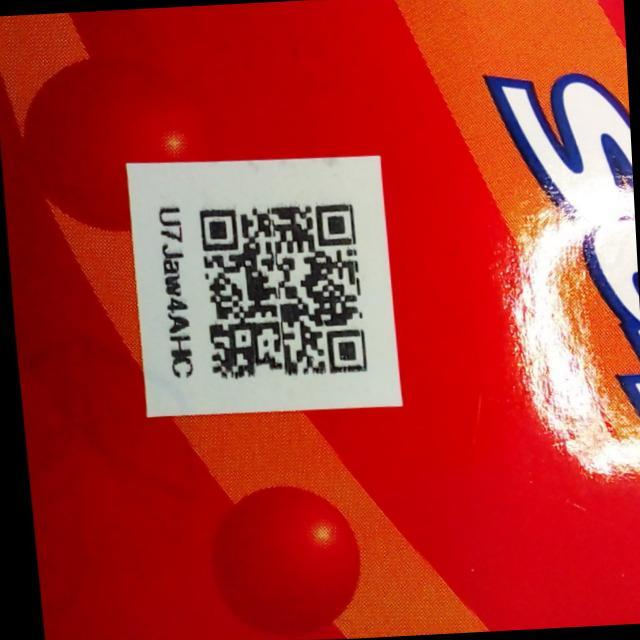QRCode: (184, 193, 378, 394)
